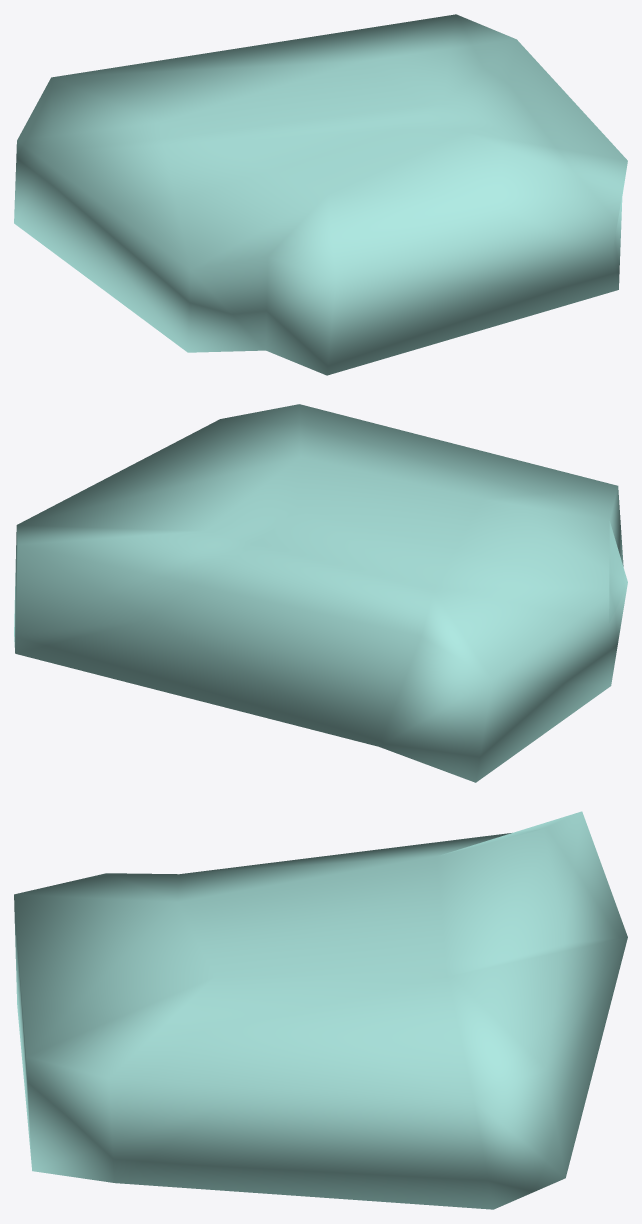
Rendered from tr_seaglass01.fbx.
The picture shows the model from 3 angles, top to bottom: view 1: azimuth 30°, elevation 25°; view 2: azimuth 150°, elevation 25°; view 3: azimuth 270°, elevation 25°; orthographic projection. The views are drawn at different scales.
Parts seen in each view (by area): view 1: tr_seaglass01; view 2: tr_seaglass01; view 3: tr_seaglass01.
Boxes of the visible parts, x1,y1,x2,y2 form: tr_seaglass01: (14,14,627,375); tr_seaglass01: (14,404,627,782); tr_seaglass01: (14,811,627,1209).
Bounding box in the file's own units: 3.91 × 1.23 × 3.63.
